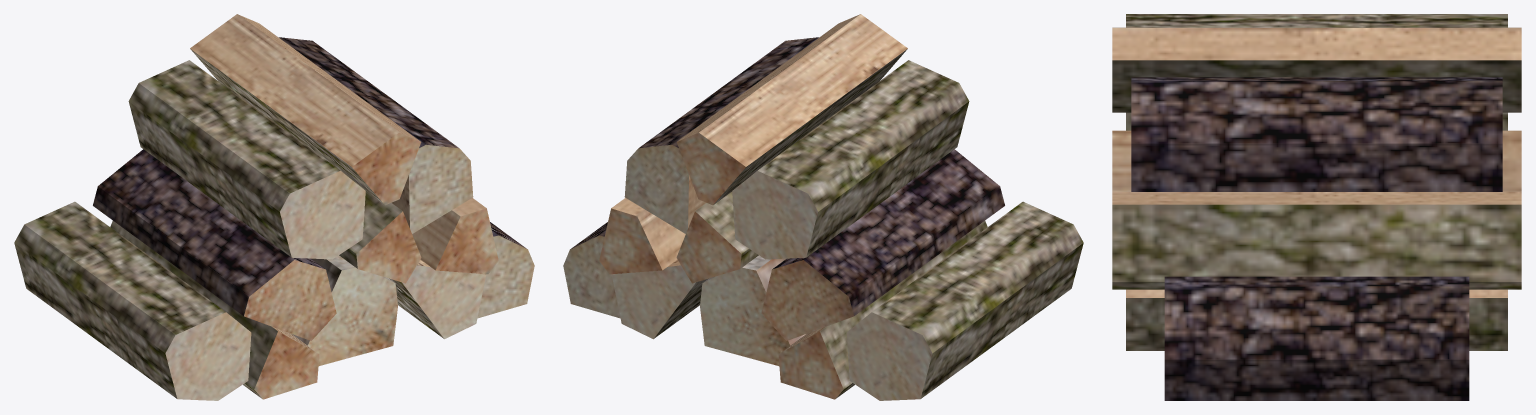
The model's file is Firewood.fbx.
3 views of the same model, side by side, from view 1: azimuth 30°, elevation 25°; view 2: azimuth 150°, elevation 25°; view 3: azimuth 270°, elevation 25° (orthographic). The views are drawn at different scales.
Visible parts, largest first — view 1: Firewood_004; view 2: Firewood_004; view 3: Firewood_004.
Part boxes in pixels (x1,y1,x2,y2): Firewood_004: (14,14,534,400); Firewood_004: (563,14,1083,400); Firewood_004: (1112,14,1521,400).
Size of the model in its own units: 81.53 by 47.38 by 59.5.
